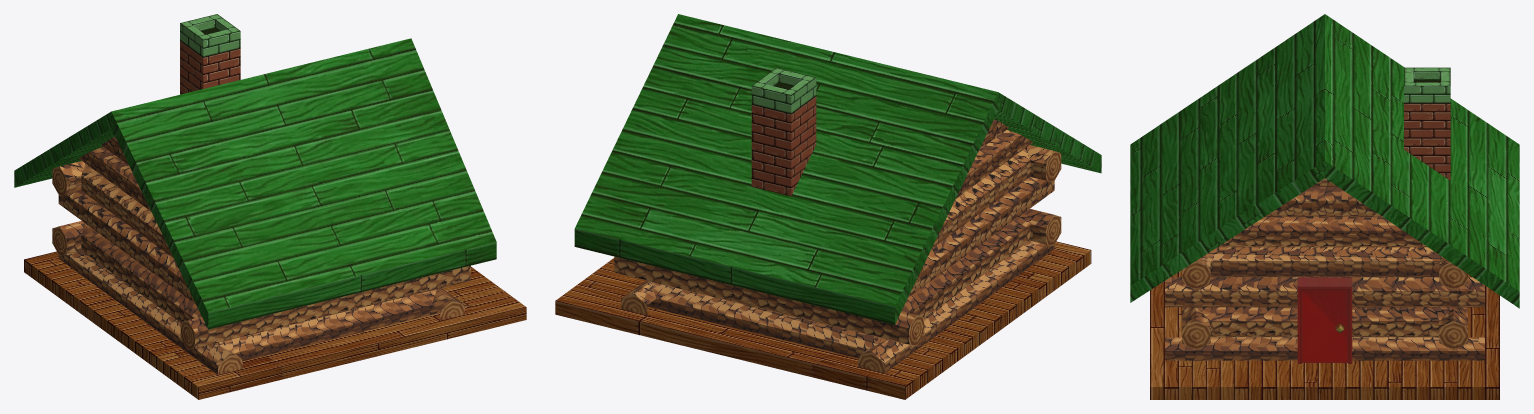
File: plaza_house_green.glb
3 renders of one model, left to right at view 1: azimuth 30°, elevation 25°; view 2: azimuth 150°, elevation 25°; view 3: azimuth 270°, elevation 25°, orthographic. The views are drawn at different scales.
Parts seen in each view (by area): view 1: GreenHouse; view 2: GreenHouse; view 3: GreenHouse.
Part boxes in pixels (x1,y1,x2,y2): GreenHouse: [14, 14, 526, 399]; GreenHouse: [555, 14, 1101, 399]; GreenHouse: [1130, 14, 1519, 399].
Size of the model in its own units: 13.9 by 9.52 by 14.23.
7 materials, 7 textured.
